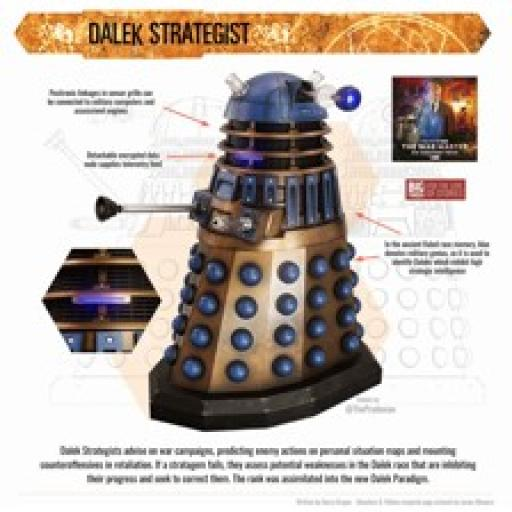dalek: (92, 68, 383, 430)
